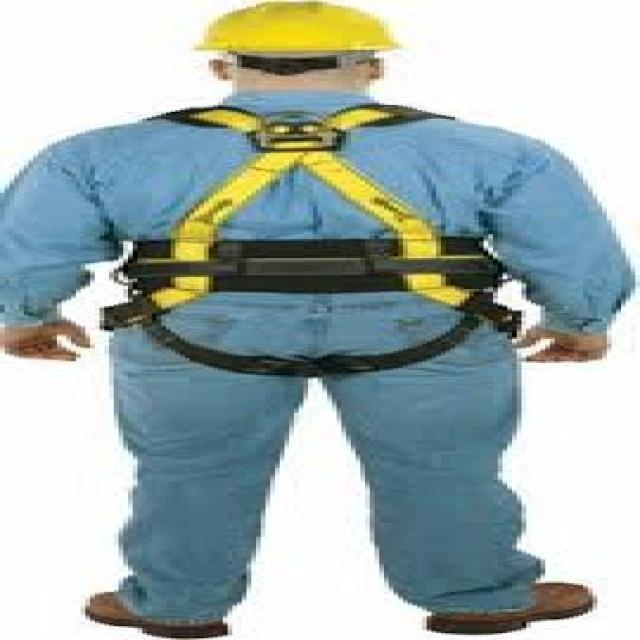Arnes_seguridad: (116, 104, 531, 377)
